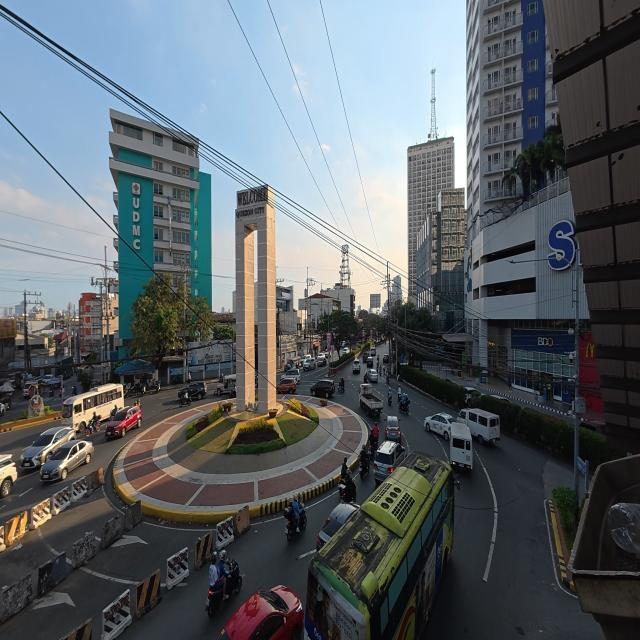Jeepneys: (216, 374, 236, 397)
bus: (305, 452, 454, 639), (62, 384, 123, 431)
car: (218, 585, 304, 639), (20, 426, 75, 468), (40, 441, 93, 482), (317, 503, 359, 551), (374, 441, 406, 485), (105, 405, 142, 438), (425, 413, 455, 440), (0, 455, 17, 497), (178, 381, 207, 399), (311, 379, 335, 398), (386, 416, 401, 441), (580, 420, 605, 434), (464, 387, 483, 404), (277, 377, 296, 393), (23, 382, 38, 397), (286, 368, 300, 384), (490, 394, 511, 403), (303, 358, 316, 370), (368, 369, 378, 383), (317, 355, 327, 366), (42, 375, 54, 384), (353, 360, 360, 373), (362, 351, 369, 362), (367, 356, 373, 368), (0, 403, 6, 415), (369, 348, 376, 357), (324, 351, 330, 361), (383, 354, 389, 364), (341, 348, 348, 356)
motorcycle: (284, 503, 307, 541), (226, 559, 243, 598), (339, 481, 356, 502), (85, 416, 100, 436), (130, 381, 146, 395), (178, 394, 192, 407), (360, 459, 369, 479), (399, 400, 410, 414), (150, 380, 160, 393), (369, 443, 376, 460), (124, 384, 131, 398), (171, 376, 182, 384), (110, 408, 117, 420), (388, 390, 392, 405), (364, 372, 369, 383), (339, 382, 344, 393), (72, 386, 76, 395), (398, 393, 401, 404), (386, 374, 389, 384)
trucks: (359, 384, 383, 416)
vans: (458, 409, 499, 443), (450, 423, 472, 469)
